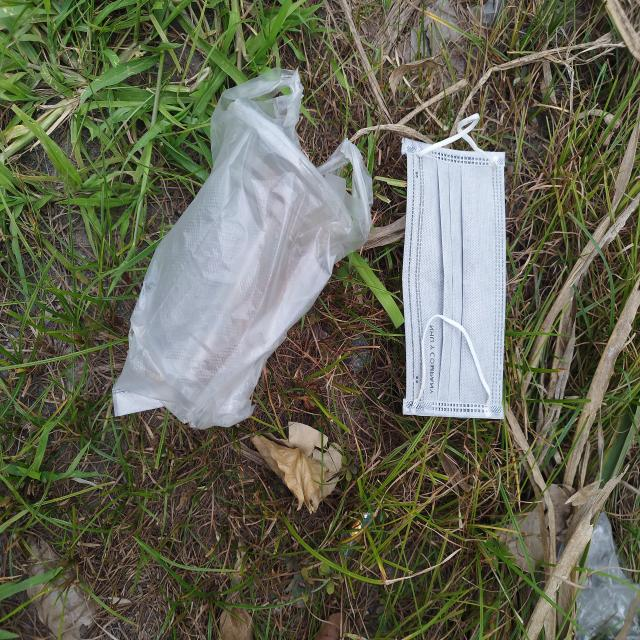mask: (402, 113, 508, 418)
trash bag: (112, 70, 374, 429)
